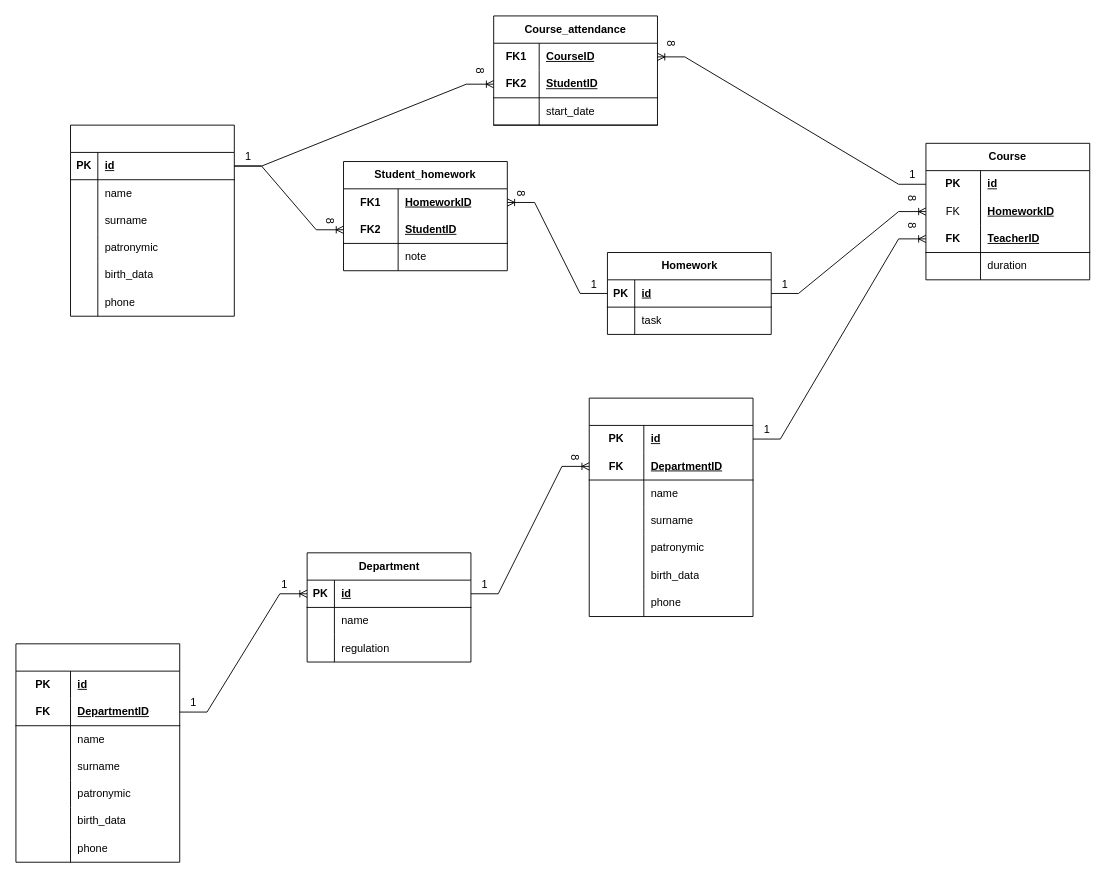
The diagram is 1106 pixels wide and 878 high, and some of its shapes have lost their labels. The shapes that lost their labels are listed below. From the top down, each one's box as (x1, y1, x2, y2) in pixels, then its label:
(70, 124, 234, 316): Student
(588, 397, 753, 617): Teacher
(15, 643, 180, 862): Department_head
